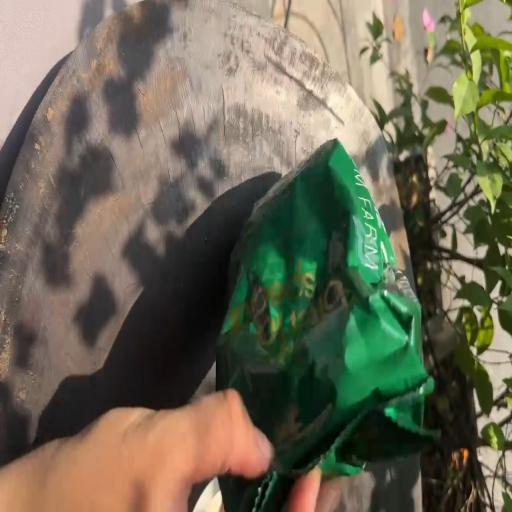cafe_xay: (216, 139, 433, 511)
